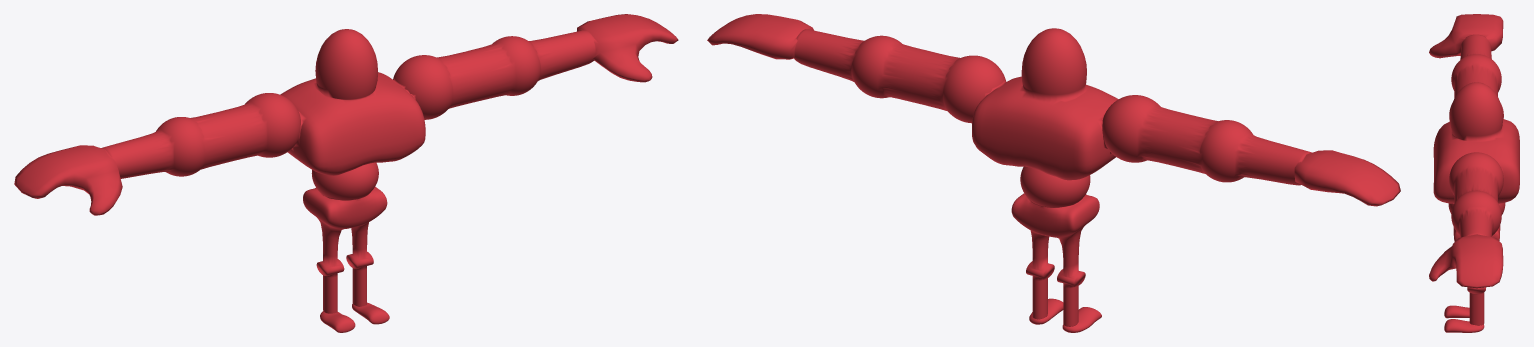
The model's file is runner.fbx.
3 renders of one model, left to right at view 1: azimuth 30°, elevation 25°; view 2: azimuth 150°, elevation 25°; view 3: azimuth 270°, elevation 25°, orthographic. The views are drawn at different scales.
Parts seen in each view (by area): view 1: Cube.001; view 2: Cube.001; view 3: Cube.001.
Part boxes in pixels (x1,y1,x2,y2): Cube.001: [14, 14, 678, 332]; Cube.001: [707, 14, 1400, 332]; Cube.001: [1429, 14, 1519, 332].
Size of the model in its own units: 1109 by 463 by 159.
